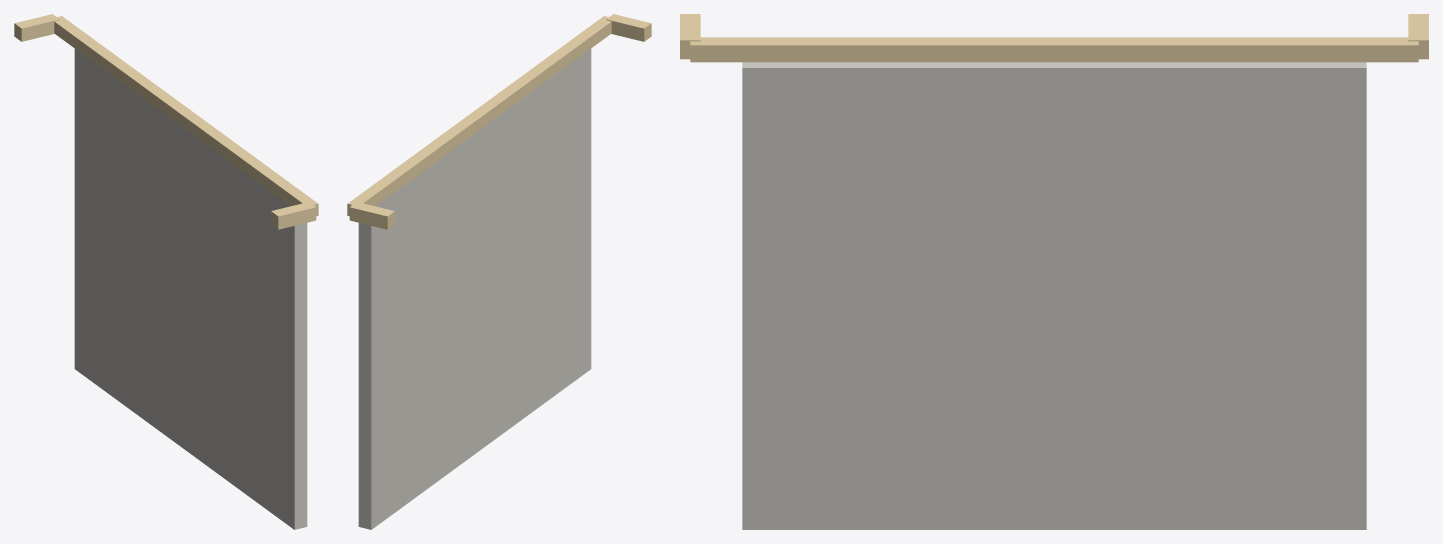
Rendered from SM_Towel_Rail.fbx.
3 renders of one model, left to right at view 1: azimuth 30°, elevation 25°; view 2: azimuth 150°, elevation 25°; view 3: azimuth 270°, elevation 25°, orthographic. The views are drawn at different scales.
Visible parts, largest first — view 1: SM_Towel_Rail; view 2: SM_Towel_Rail; view 3: SM_Towel_Rail.
Part boxes in pixels (x1=…): SM_Towel_Rail: x1=14, y1=14, x2=318, y2=529; SM_Towel_Rail: x1=347, y1=14, x2=651, y2=529; SM_Towel_Rail: x1=680, y1=14, x2=1428, y2=529.
Bounding box in the file's own units: 8 × 51 × 72.
